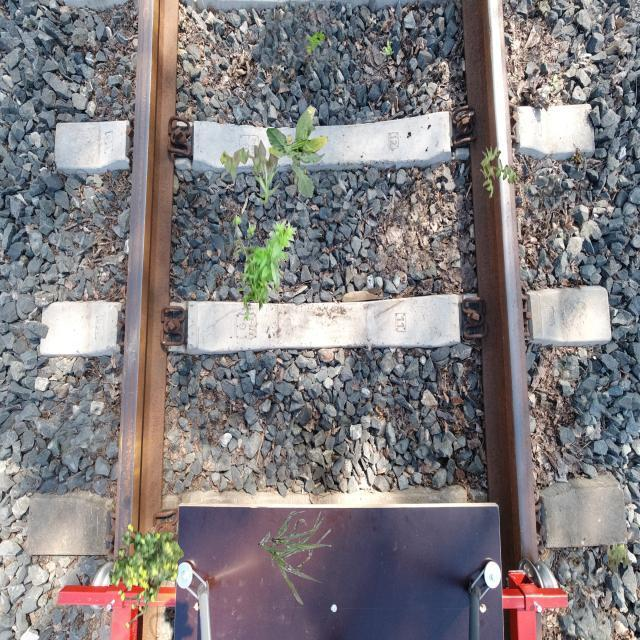Plant: (110, 524, 185, 629), (232, 214, 296, 322), (259, 511, 332, 604), (266, 105, 328, 198), (220, 134, 306, 186), (479, 145, 520, 199), (254, 163, 280, 205), (607, 541, 633, 573), (306, 29, 326, 54), (380, 40, 394, 56)
